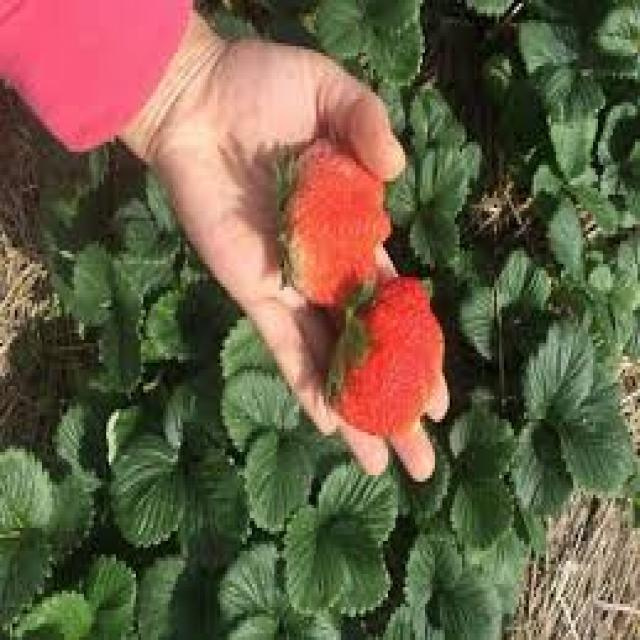Fruta sana: (278, 154, 392, 300), (336, 276, 442, 432)
